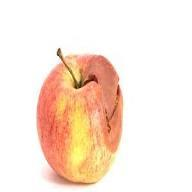apple: (38, 51, 123, 183)
